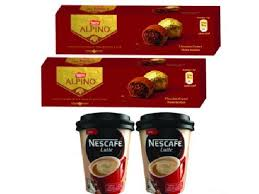nescafe-cappe: (73, 110, 132, 194), (137, 110, 193, 194)
